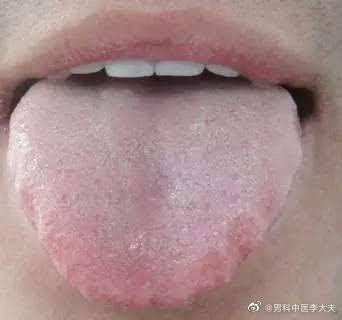baitaishe: (8, 77, 301, 307)
chihenshe: (10, 179, 88, 299)
